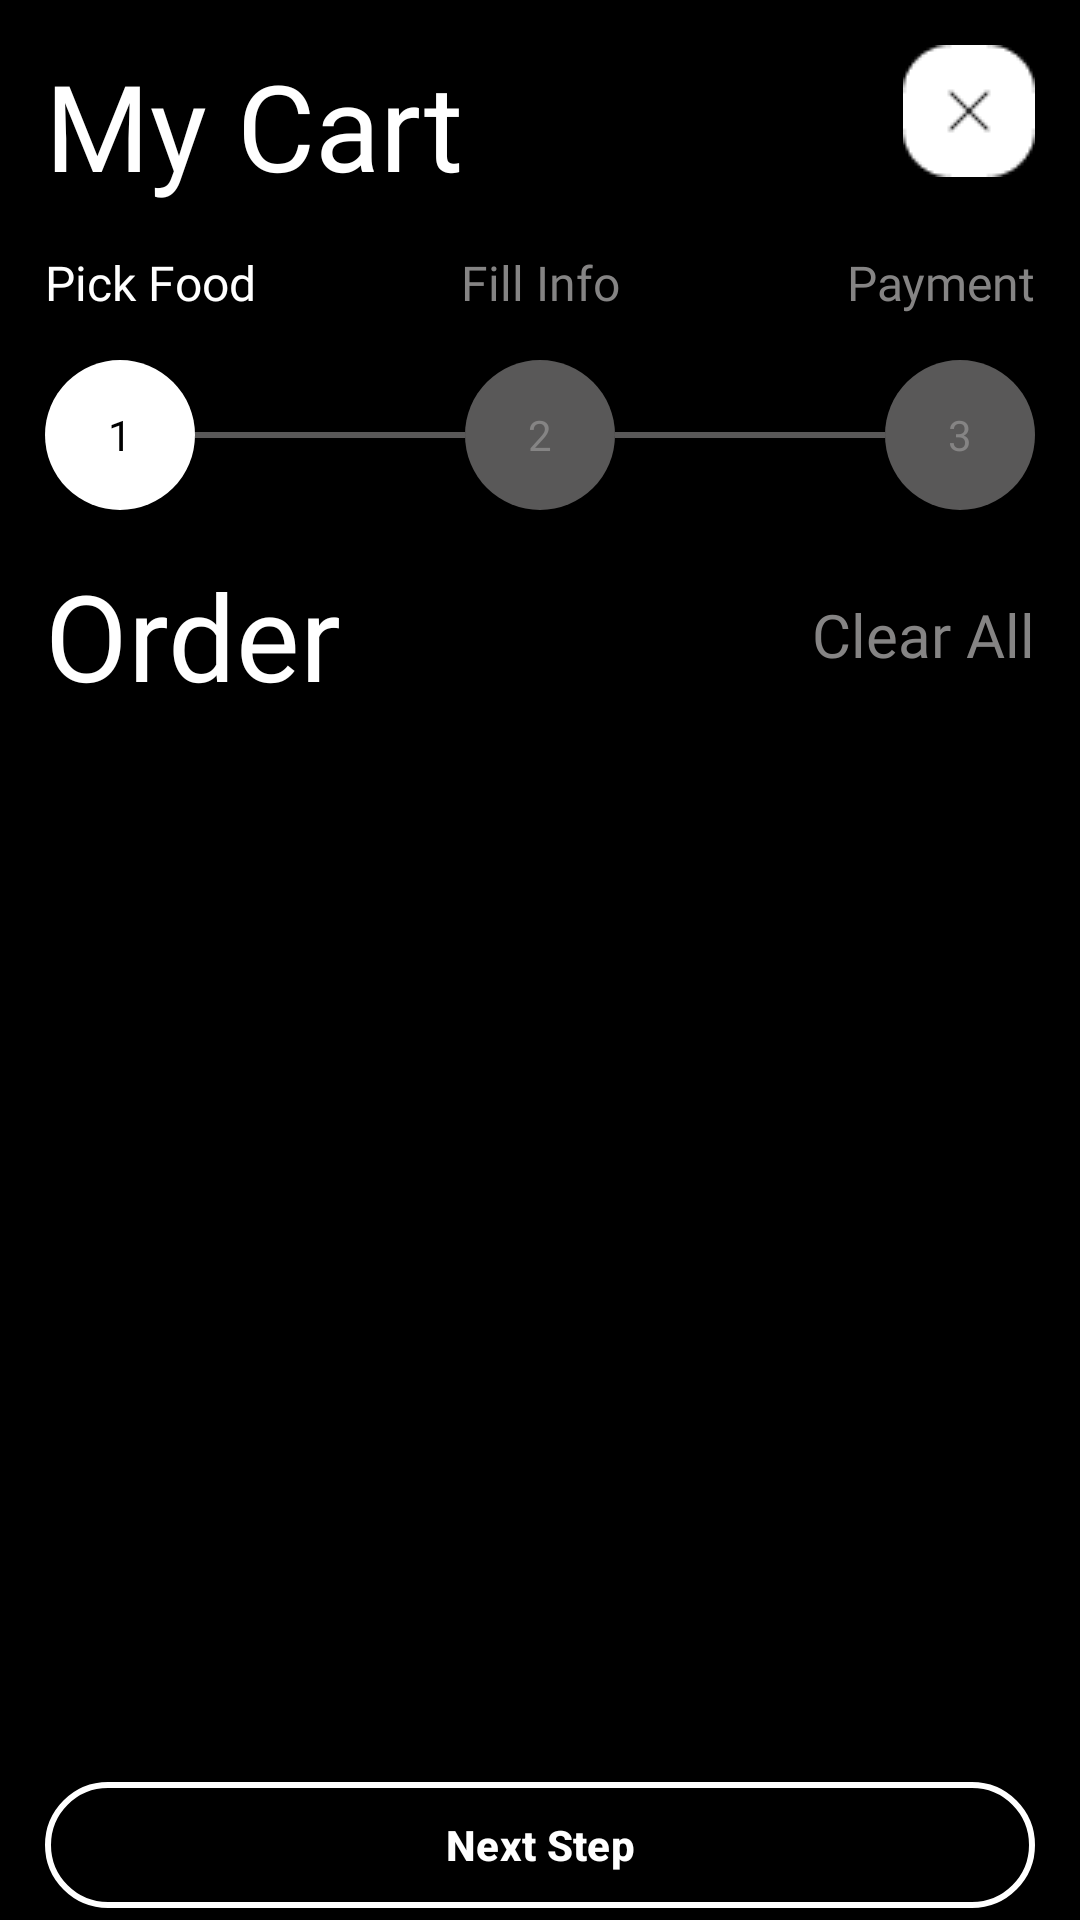

Icons on this 1080 × 1920 Android screen, each with the point to tap as point (x, y):
close: point (969, 111)
